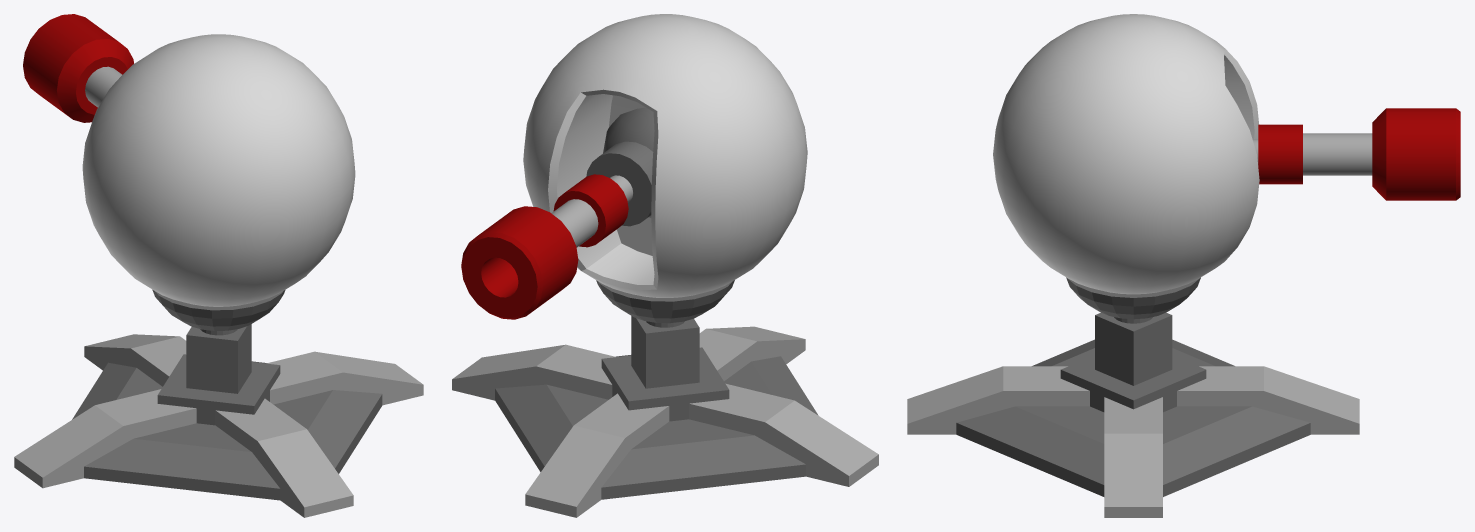
File: turret.fbx
The picture shows the model from 3 angles, left to right: view 1: azimuth 30°, elevation 25°; view 2: azimuth 150°, elevation 25°; view 3: azimuth 270°, elevation 25°; orthographic projection. The views are drawn at different scales.
Visible parts, largest first — view 1: head, body; view 2: head, body; view 3: head, body.
Part boxes in pixels (x1,y1,x2,y2): head: [23, 14, 355, 306]; body: [14, 289, 423, 517]; head: [461, 14, 807, 319]; body: [452, 280, 878, 517]; head: [993, 14, 1460, 294]; body: [907, 277, 1359, 517].
Bounding box in the file's own units: 389 × 375 × 475.
